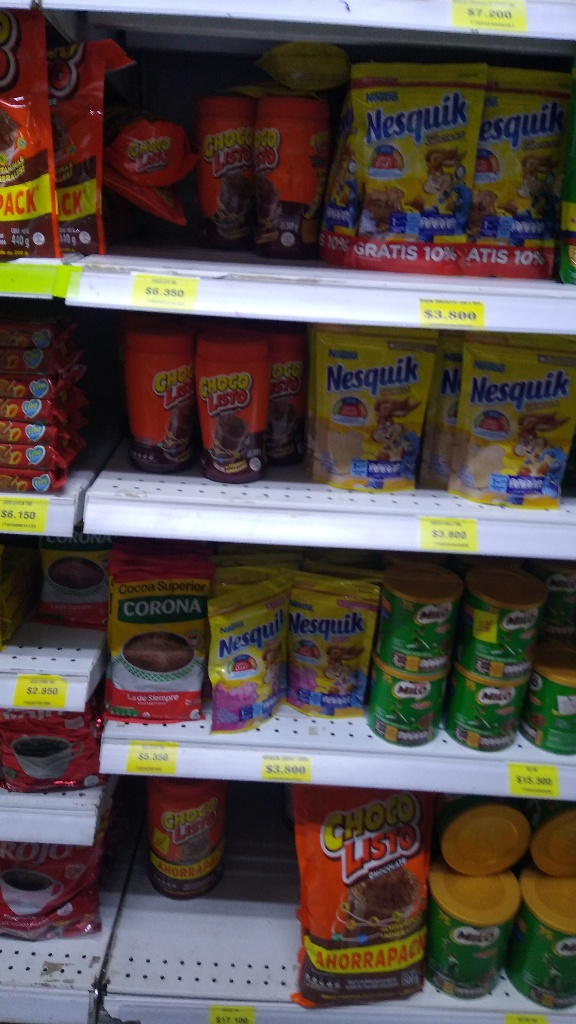COL0170103TRR00100: (134, 778, 227, 901)
COL0170203LAT40000: (374, 657, 449, 748)
